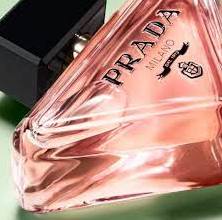prada_paradoxe: (1, 1, 222, 216)
